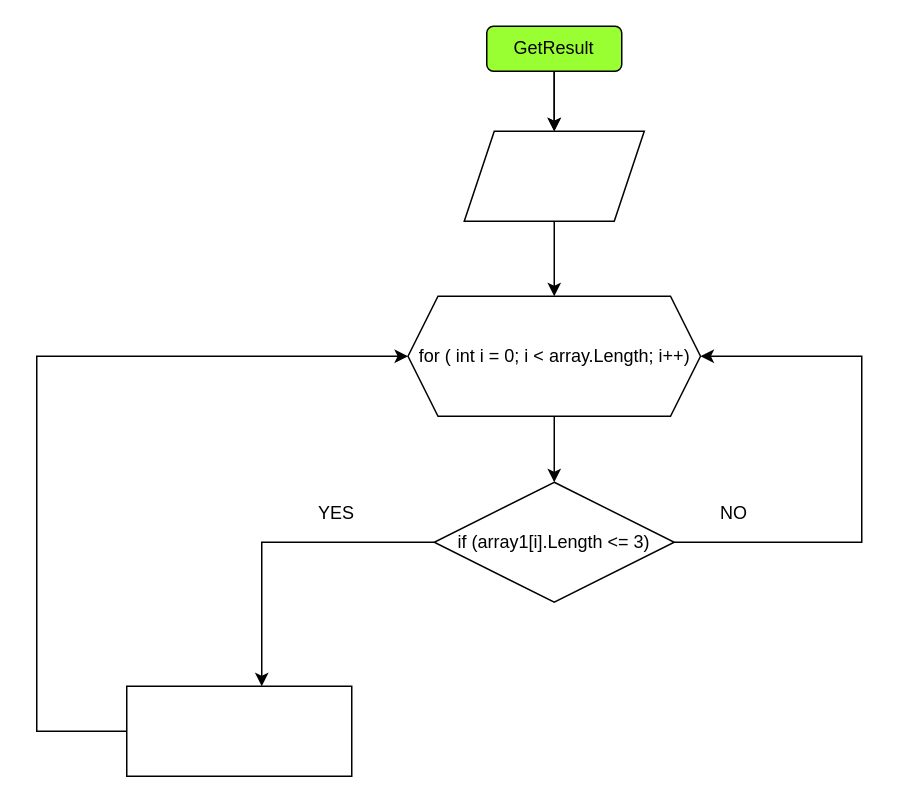
The diagram is 900 pixels wide and 803 high, and some of its shapes have lost their labels. The centre of each missing label's shape, as x and y in pixels:
"array2[count] = array1[i]; count++;" goes at point (238, 730).
"string array1 string array2 int count = 0" goes at point (553, 175).
